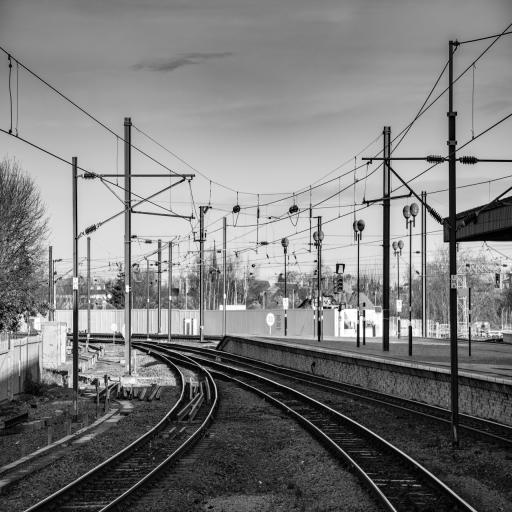platform_edge: (220, 322, 512, 402)
